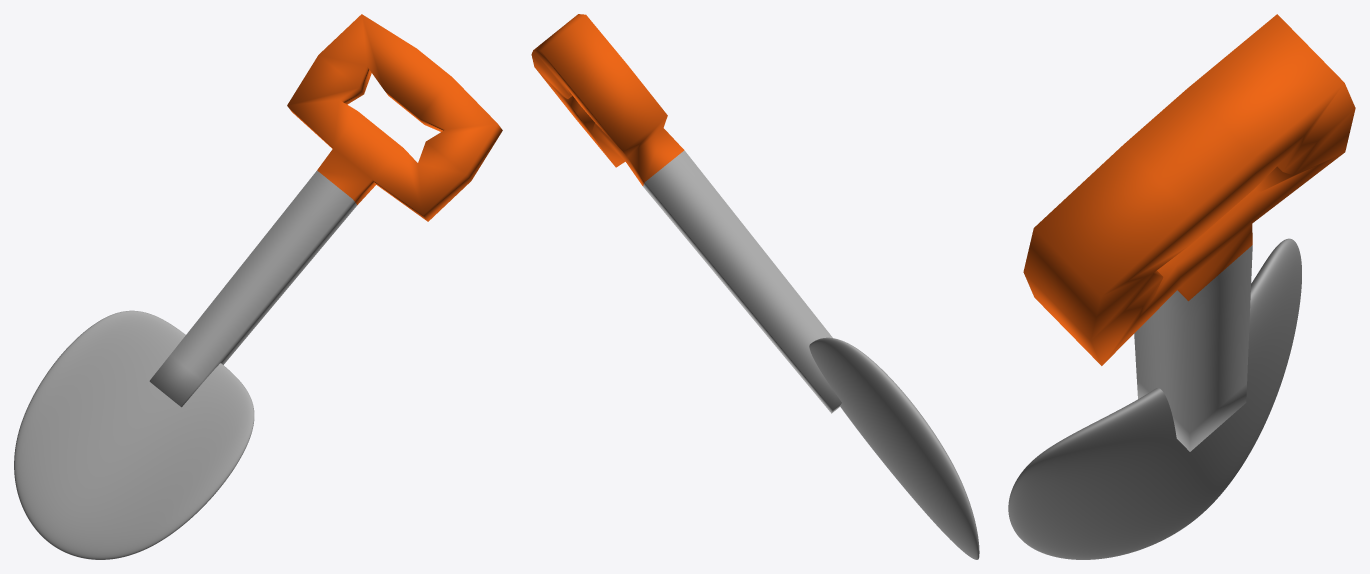
File: shovel.glb
3 renders of one model, left to right at view 1: azimuth 30°, elevation 25°; view 2: azimuth 150°, elevation 25°; view 3: azimuth 270°, elevation 25°, orthographic. The views are drawn at different scales.
Visible parts, largest first — view 1: Vert.009; view 2: Vert.009; view 3: Vert.009.
Boxes of the visible parts, box(x1,y1,x2,y2) form: Vert.009: box(14, 14, 502, 559); Vert.009: box(531, 14, 979, 559); Vert.009: box(1008, 14, 1355, 559).
Bounding box in the file's own units: 0.8 × 0.7565 × 0.2891.
